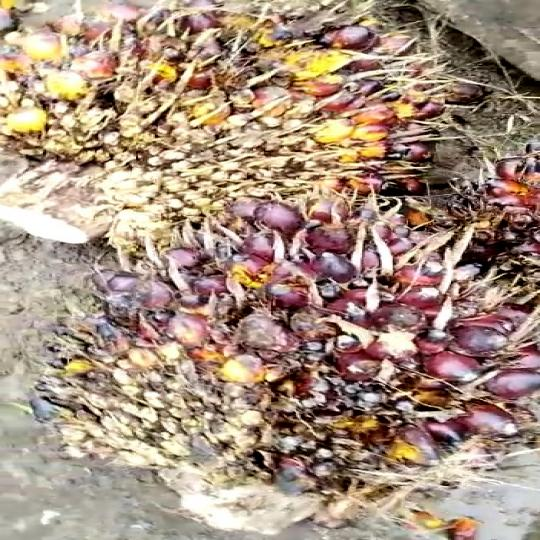masak: (21, 190, 540, 535), (0, 0, 474, 254)
